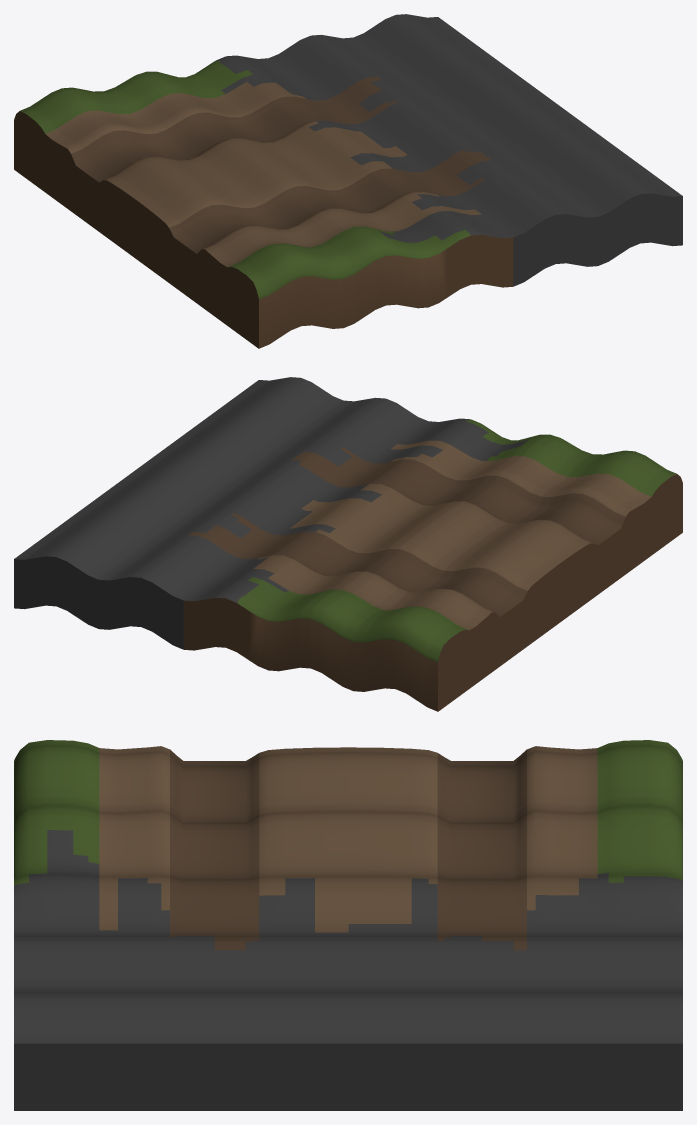
The picture shows the model from 3 angles, top to bottom: view 1: azimuth 30°, elevation 25°; view 2: azimuth 150°, elevation 25°; view 3: azimuth 270°, elevation 25°; orthographic projection. The views are drawn at different scales.
Visible parts, largest first — view 1: w1t; view 2: w1t; view 3: w1t.
Boxes of the visible parts, x1=… form: w1t: x1=14, y1=14, x2=682, y2=348; w1t: x1=14, y1=377, x2=682, y2=711; w1t: x1=14, y1=740, x2=682, y2=1110.
Size of the model in its own units: 9 by 1.56 by 9.
